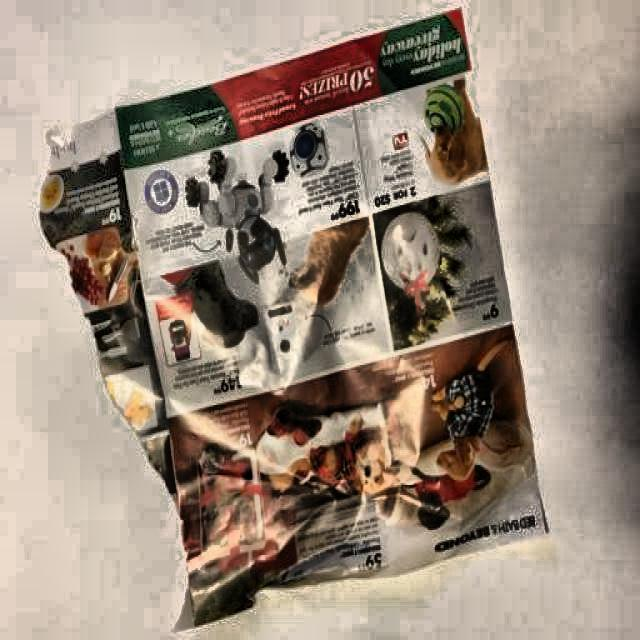cardboard: (39, 10, 549, 624)
